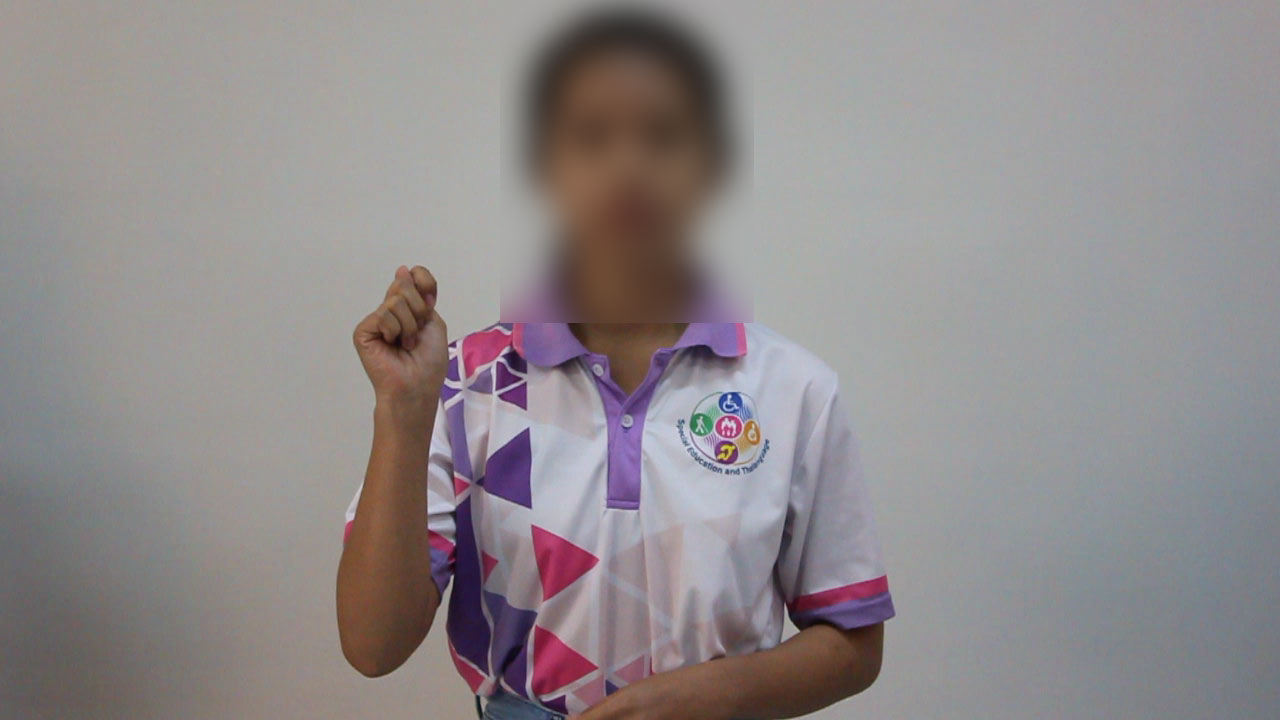tor: (325, 249, 496, 443)
